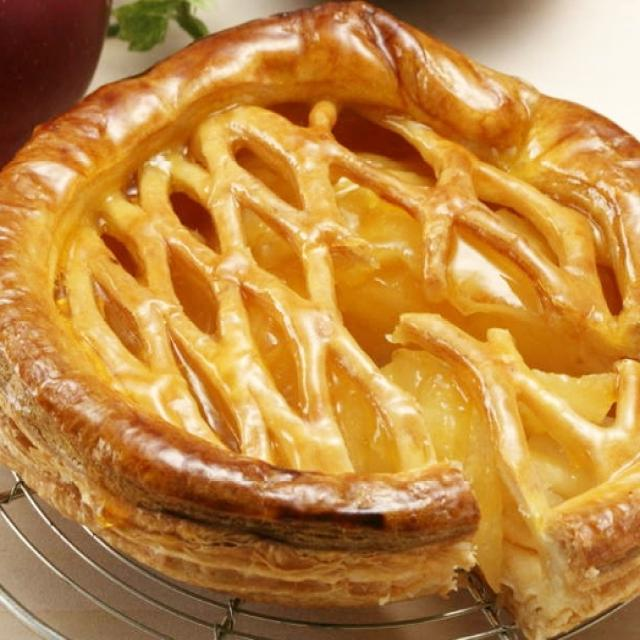炸货点心: (1, 15, 617, 624)
蛋糕甜品: (1, 15, 617, 624)
